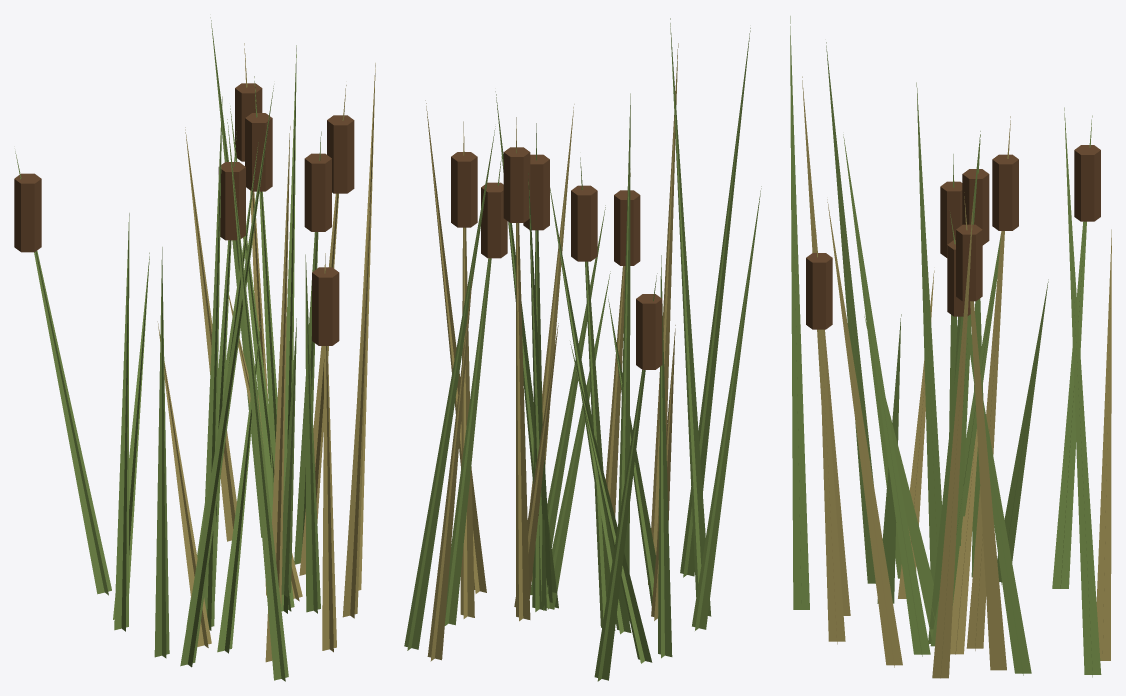
File: Reeds.fbx
The picture shows the model from 3 angles, left to right: view 1: azimuth 30°, elevation 25°; view 2: azimuth 150°, elevation 25°; view 3: azimuth 270°, elevation 25°; orthographic projection. The views are drawn at different scales.
Visible parts, largest first — view 1: Reeds; view 2: Reeds; view 3: Reeds.
Boxes of the visible parts, <box> form: Reeds: <box>14,17,375,681</box>; Reeds: <box>404,18,761,681</box>; Reeds: <box>790,16,1111,678</box>.
Bounding box in the file's own units: 1.01 × 1.89 × 0.9602.
